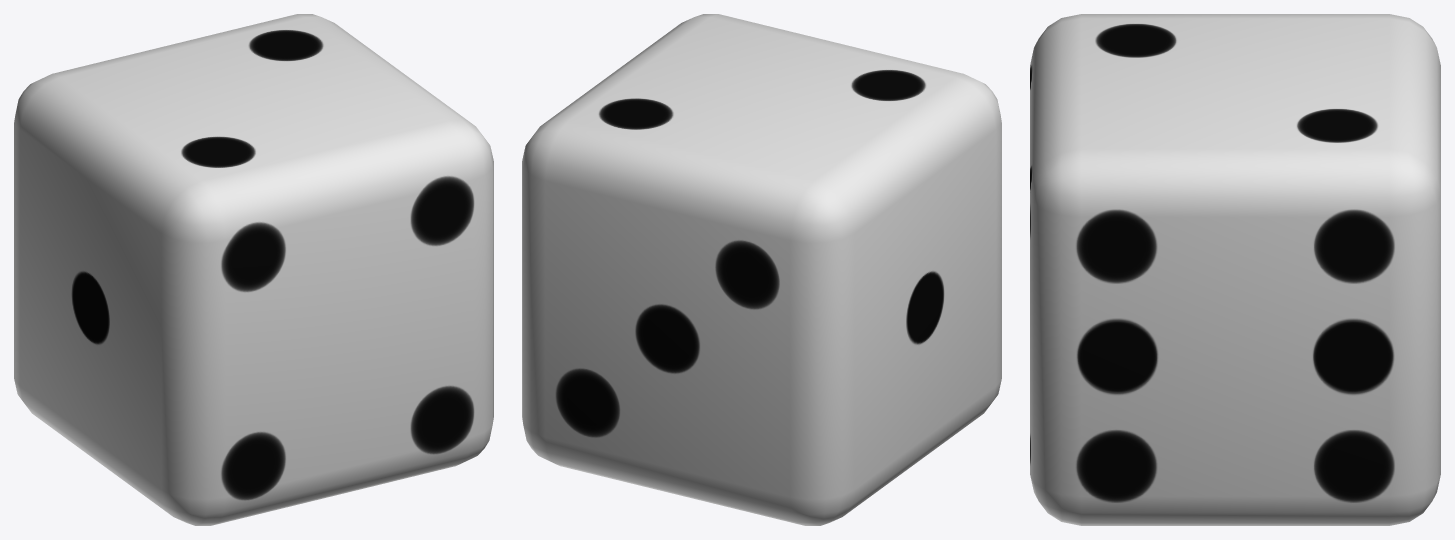
Rendered from die.glb.
3 renders of one model, left to right at view 1: azimuth 30°, elevation 25°; view 2: azimuth 150°, elevation 25°; view 3: azimuth 270°, elevation 25°, orthographic. The views are drawn at different scales.
Visible parts, largest first — view 1: Cube; view 2: Cube; view 3: Cube.
Boxes of the visible parts, x1=… form: Cube: x1=14, y1=14, x2=493, y2=525; Cube: x1=522, y1=14, x2=1001, y2=525; Cube: x1=1030, y1=14, x2=1440, y2=525.
Bounding box in the file's own units: 0.0295 × 0.0295 × 0.0295.
Materials: 1 (1 with a texture image).
